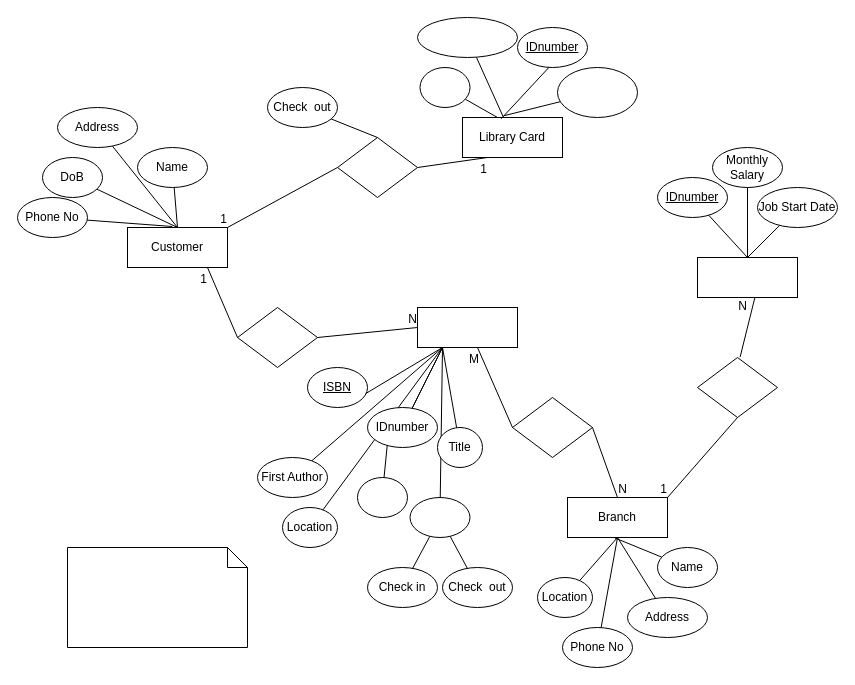
Some shapes in this 855 by 685 pixel diagram are drawn without their labels. The centre of each missing label's shape, as x and y in pixels:
Assumptions:: the point at 157,597
Books: the point at 467,327
Employee: the point at 747,277
fine: the point at 444,87
get: the point at 277,337
has: the point at 377,167
have: the point at 737,387
Price: the point at 382,497
Status: the point at 439,517
store: the point at 552,427
Temporary Password: the point at 597,92
Username: the point at 467,37
